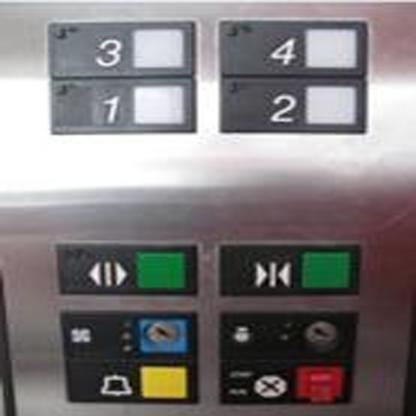1: (45, 74, 199, 135)
2: (214, 74, 368, 134)
3: (44, 18, 199, 79)
4: (215, 17, 371, 78)
alarm: (62, 352, 200, 405)
close: (216, 241, 361, 298)
fan: (57, 307, 200, 363)
light: (213, 306, 359, 366)
open: (53, 237, 200, 297)
stop: (214, 354, 355, 410)
